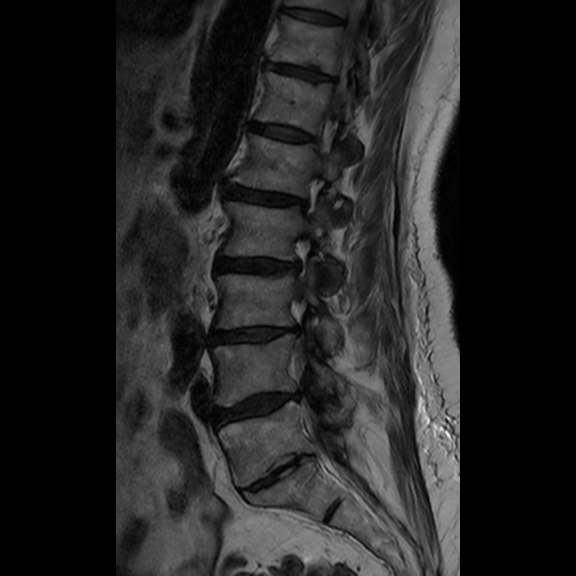LFS1: (290, 170, 331, 221)
